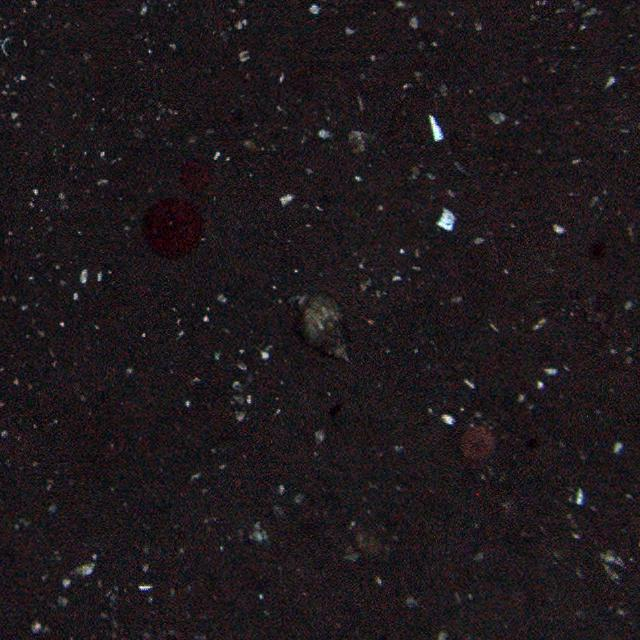whelk: (285, 291, 353, 365)
